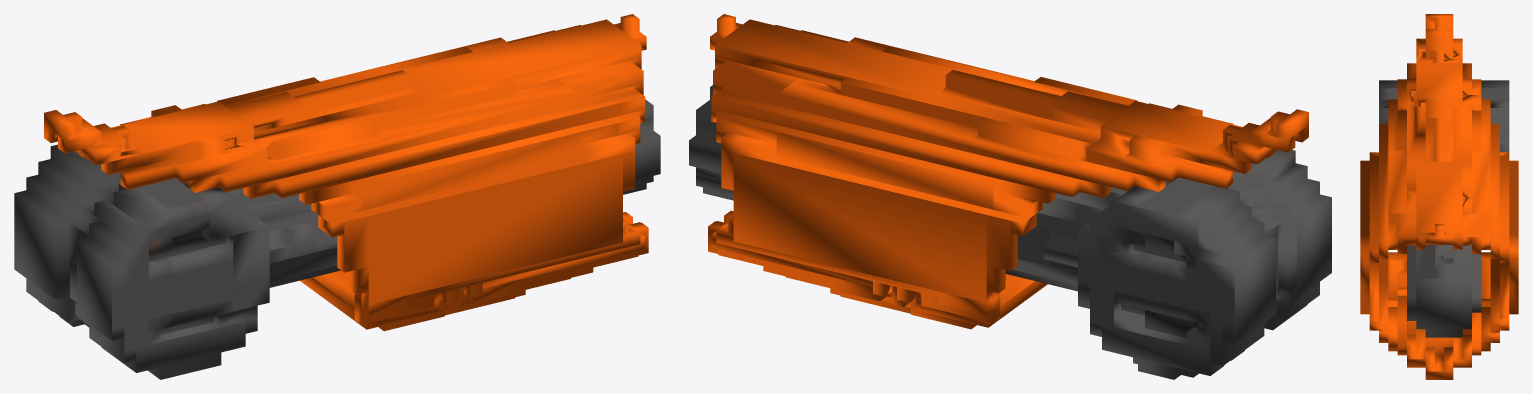
Rendered from KaishiBrazo.obj.
3 renders of one model, left to right at view 1: azimuth 30°, elevation 25°; view 2: azimuth 150°, elevation 25°; view 3: azimuth 270°, elevation 25°, orthographic. The views are drawn at different scales.
Parts seen in each view (by area): view 1: kaishibrazo_48x22x17; view 2: kaishibrazo_48x22x17; view 3: kaishibrazo_48x22x17.
Part boxes in pixels (x1=…): kaishibrazo_48x22x17: x1=14, y1=14, x2=660, y2=379; kaishibrazo_48x22x17: x1=689, y1=14, x2=1331, y2=379; kaishibrazo_48x22x17: x1=1360, y1=14, x2=1518, y2=379.
Bounding box in the file's own units: 0.269 × 0.1233 × 0.0953.
